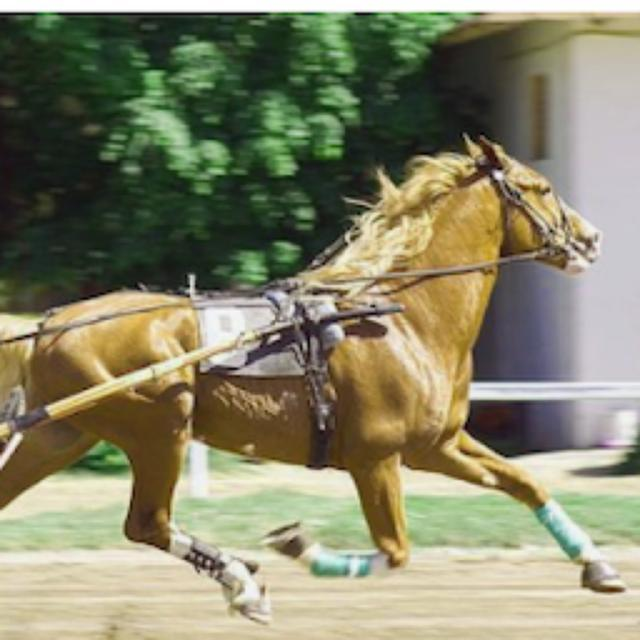Horse: (2, 128, 638, 632)
